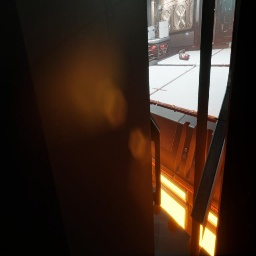0: (193, 62, 200, 67)
NitrogenTank ,: (179, 53, 190, 60), (179, 49, 185, 56)
